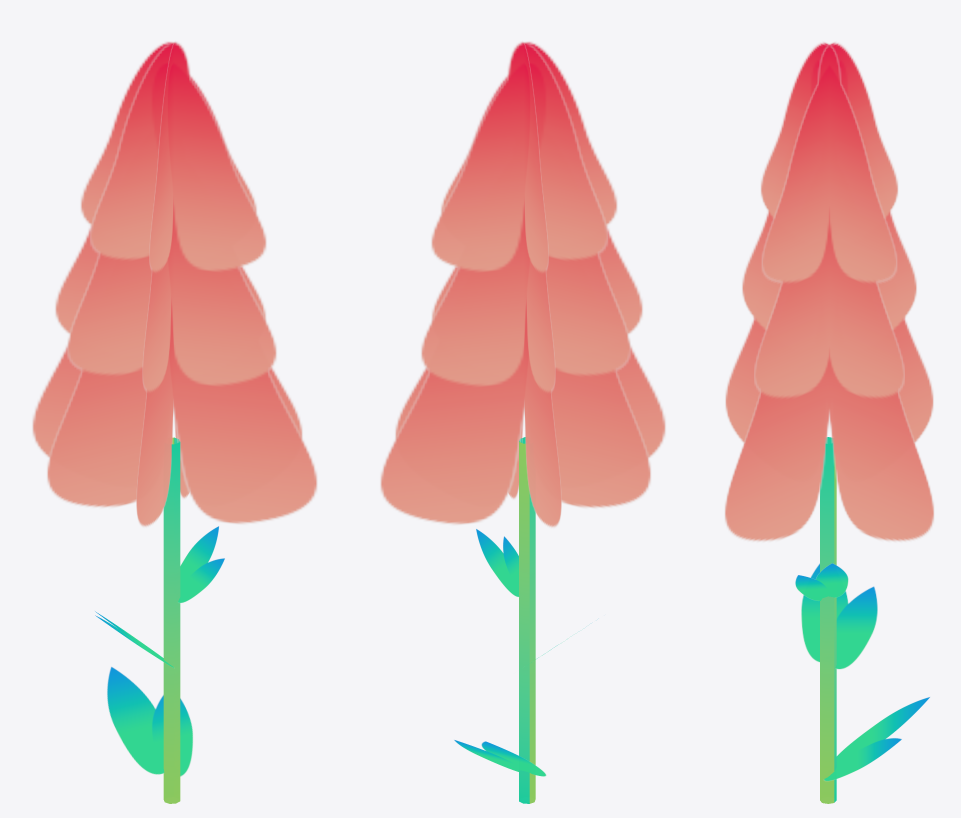
Rendered from Flowers_n02_08.glb.
The picture shows the model from 3 angles, left to right: view 1: azimuth 30°, elevation 25°; view 2: azimuth 150°, elevation 25°; view 3: azimuth 270°, elevation 25°; orthographic projection.
Parts seen in each view (by area): view 1: polySurface170; view 2: polySurface170; view 3: polySurface170.
Boxes of the visible parts, left/top/right/bottom form: polySurface170: left=32, top=41, right=317, bottom=803; polySurface170: left=380, top=41, right=665, bottom=803; polySurface170: left=724, top=41, right=934, bottom=803.
Bounding box in the file's own units: 0.1647 × 0.4256 × 0.1164.
Materials: 1 (1 with a texture image).
